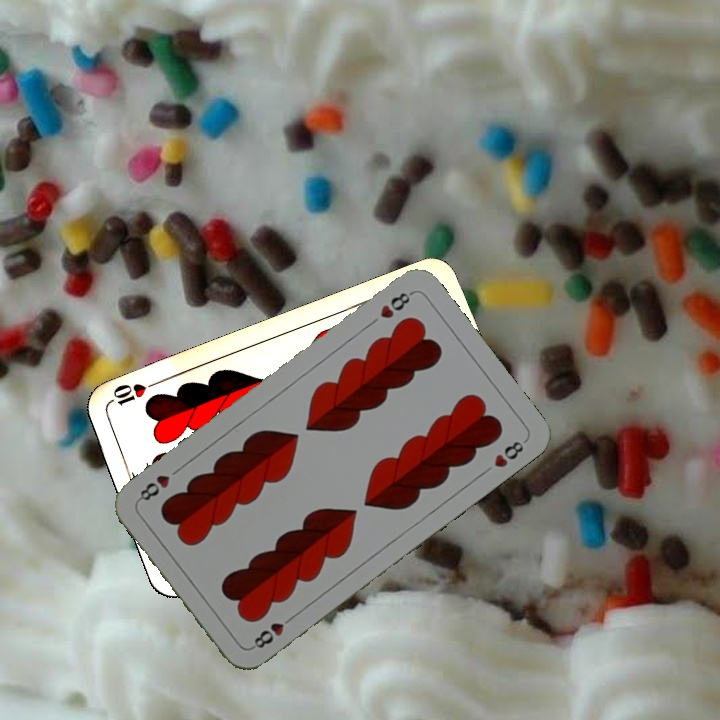H8: (247, 611, 298, 652), (375, 287, 416, 321)
